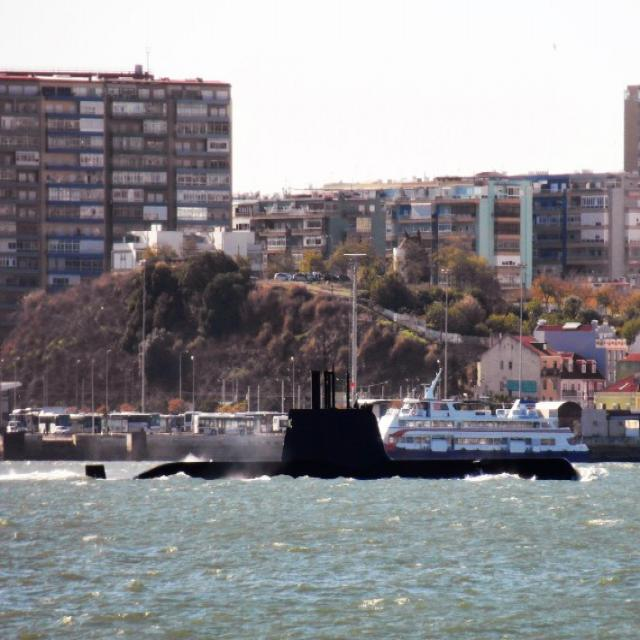submarine: (87, 369, 580, 480)
